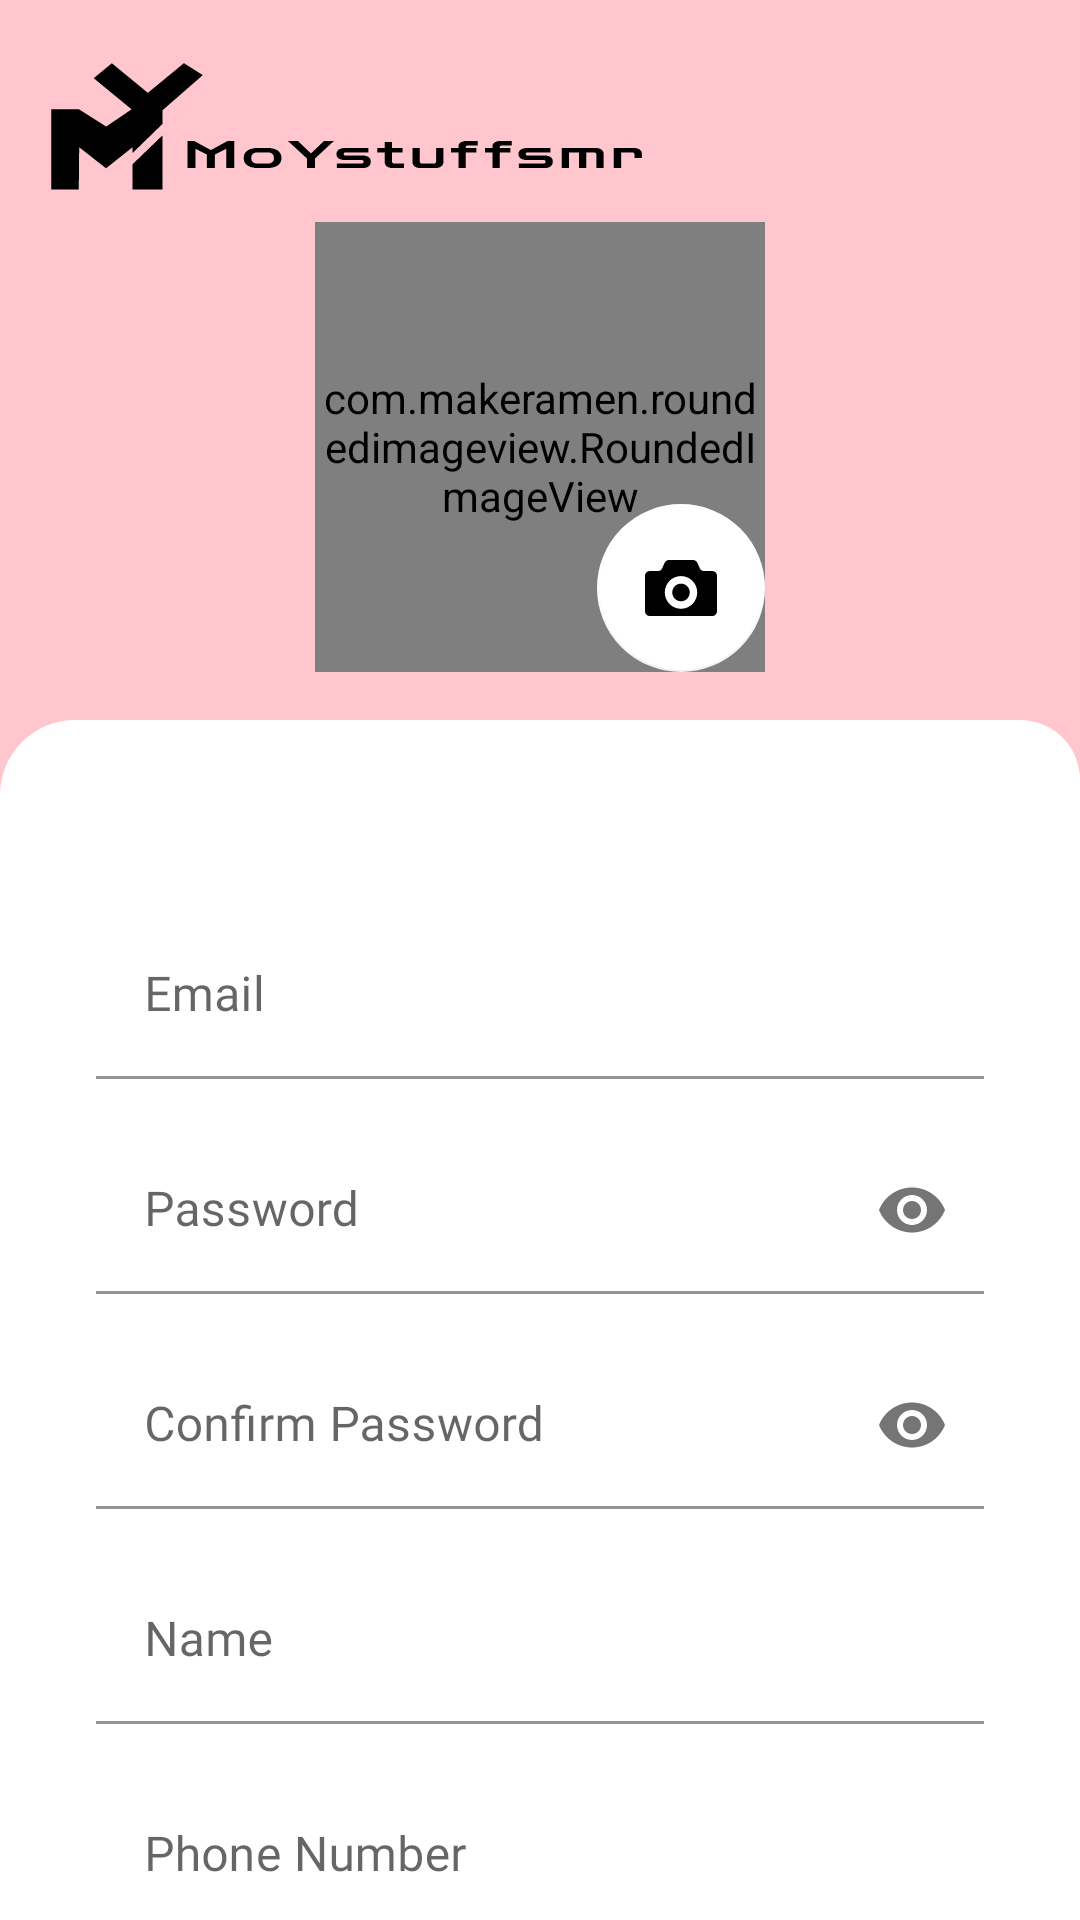

Icons on this 1080 x 1920 Android screen, each with the point to tap as point (x, y):
camera: point (681, 588)
